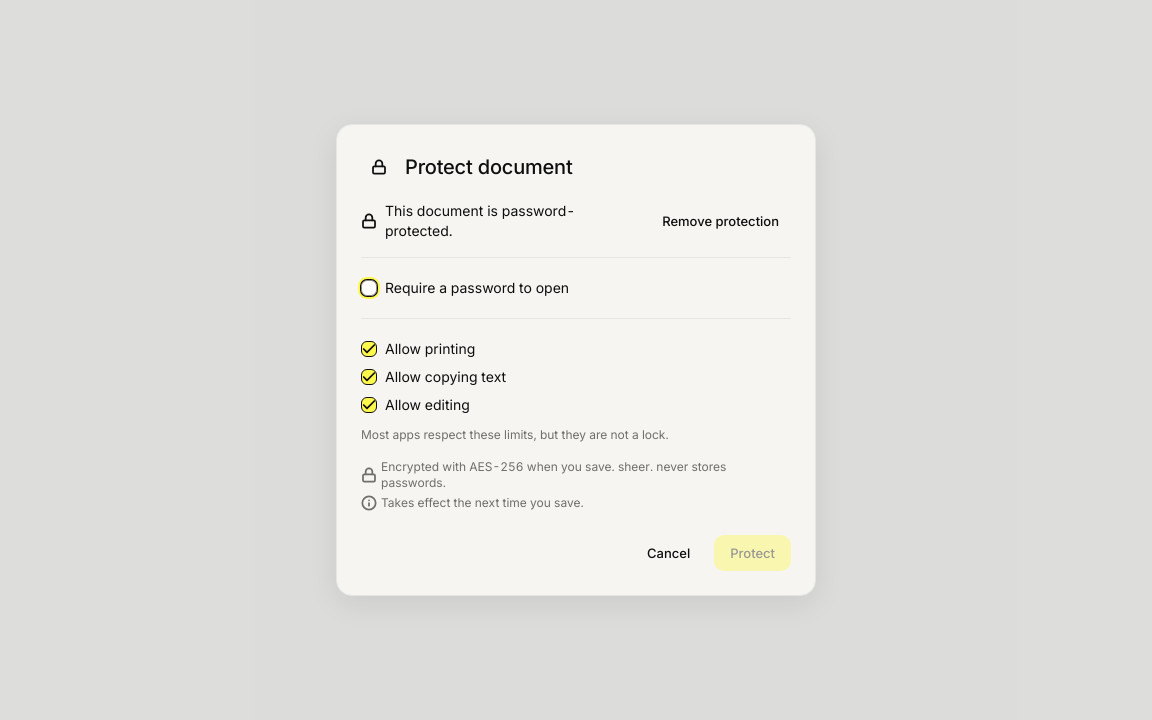
Test: the Protect sheet › asks for the permissions password without owner rights and shows a wrong one
Click the button "Remove protection": x=721, y=221 [650,207,791,235]
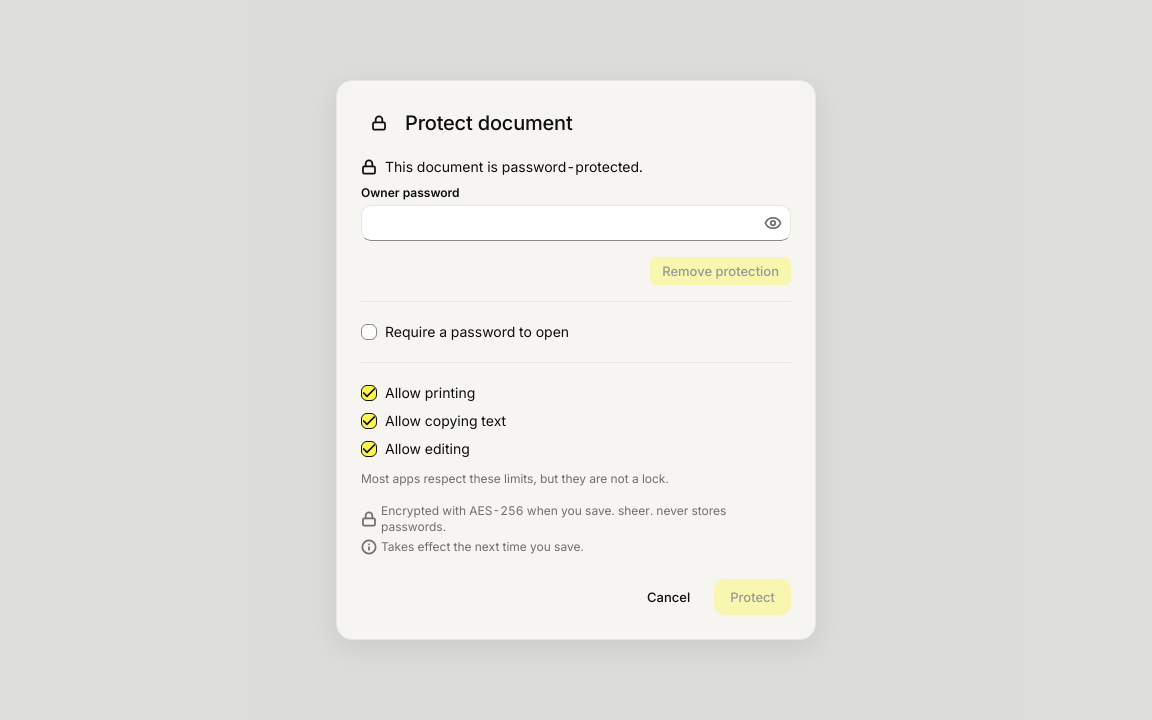
In the password field labelled "Owner password": x=576, y=223 [361,205,791,241], type "nope"
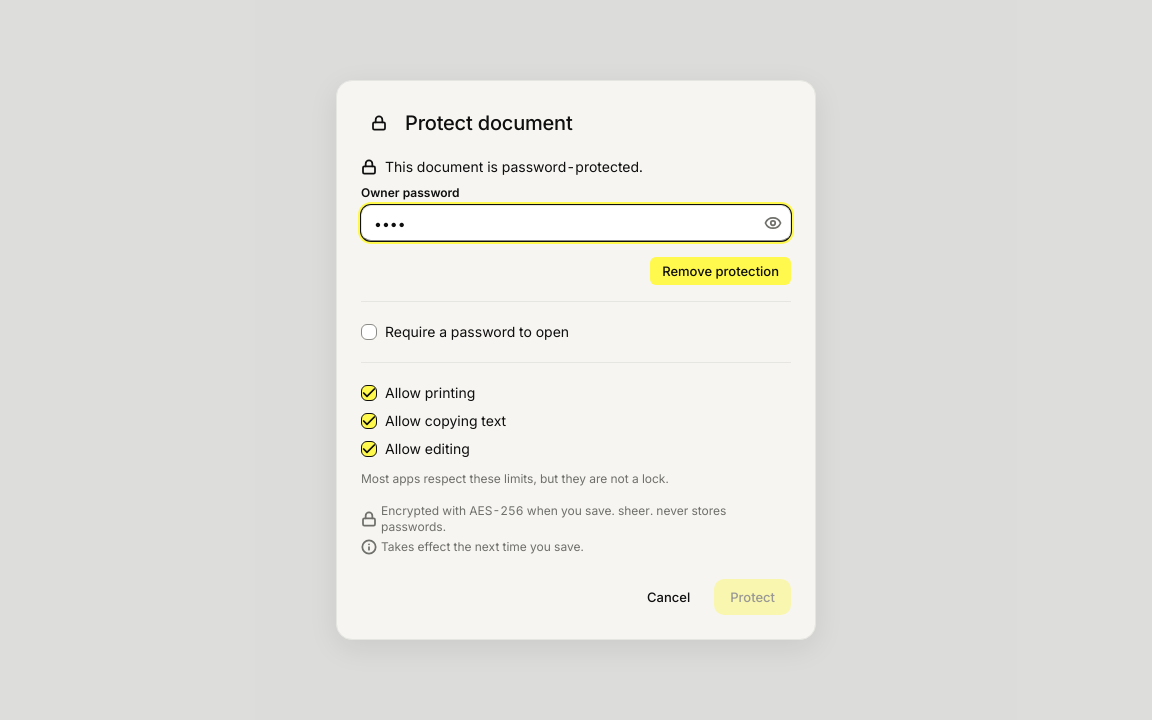
Click the button "Remove protection": x=721, y=271 [650,257,791,285]
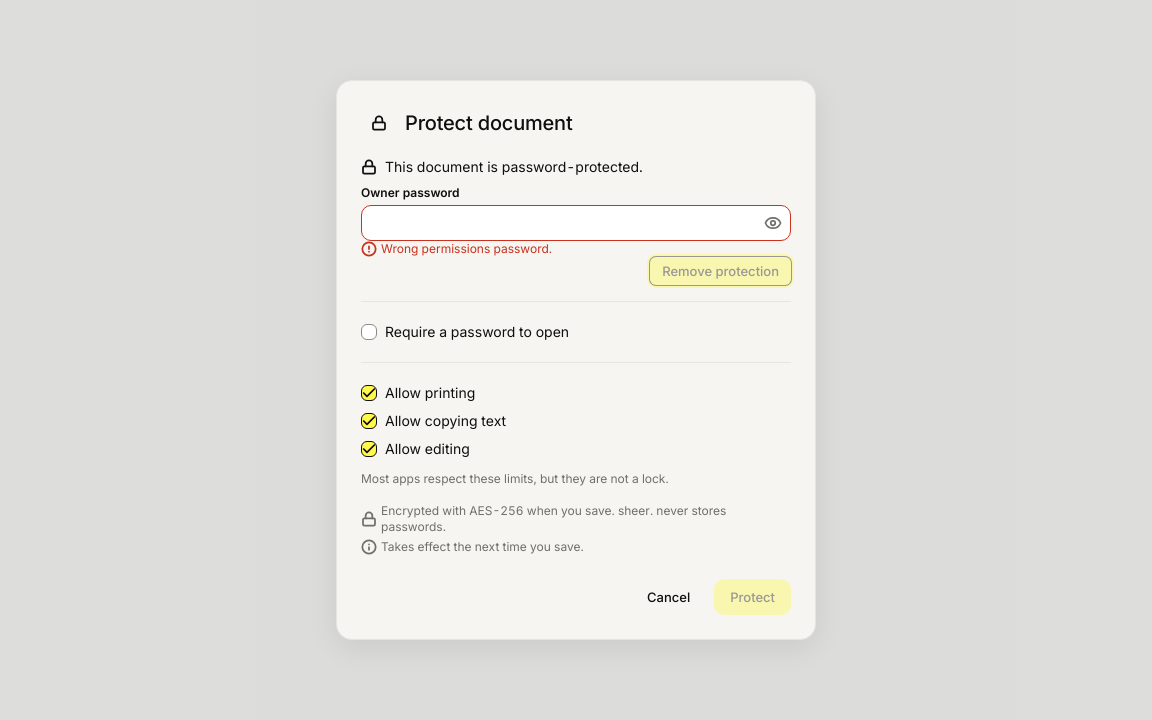
Expected: the text "Wrong permissions password." is shown, [361,241,552,257]
Expected: the password field labelled "Owner password" is empty, [361,205,791,241]
